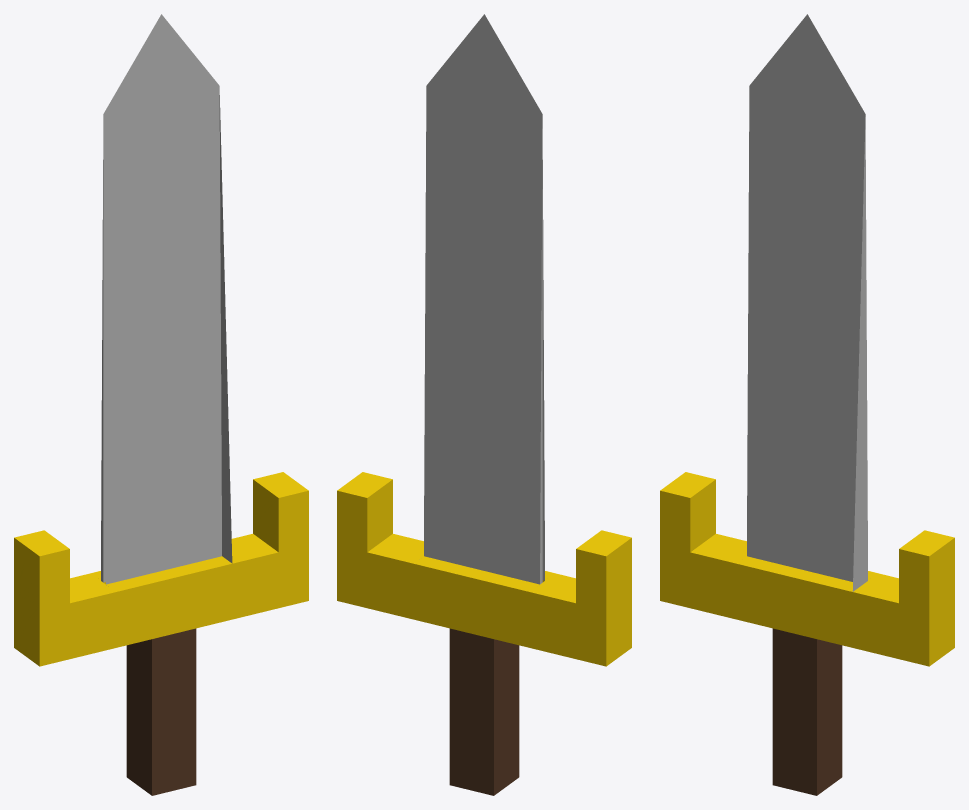
File: Sword.fbx
3 views of the same model, side by side, from view 1: azimuth 30°, elevation 25°; view 2: azimuth 150°, elevation 25°; view 3: azimuth 330°, elevation 25° (orthographic).
Visible parts, largest first — view 1: Cube; view 2: Cube; view 3: Cube.
Part boxes in pixels (left/top/right/bottom): Cube: left=14, top=14, right=308, bottom=795; Cube: left=337, top=14, right=631, bottom=795; Cube: left=660, top=14, right=954, bottom=795.
Size of the model in its own units: 1215 by 3309 by 200.
